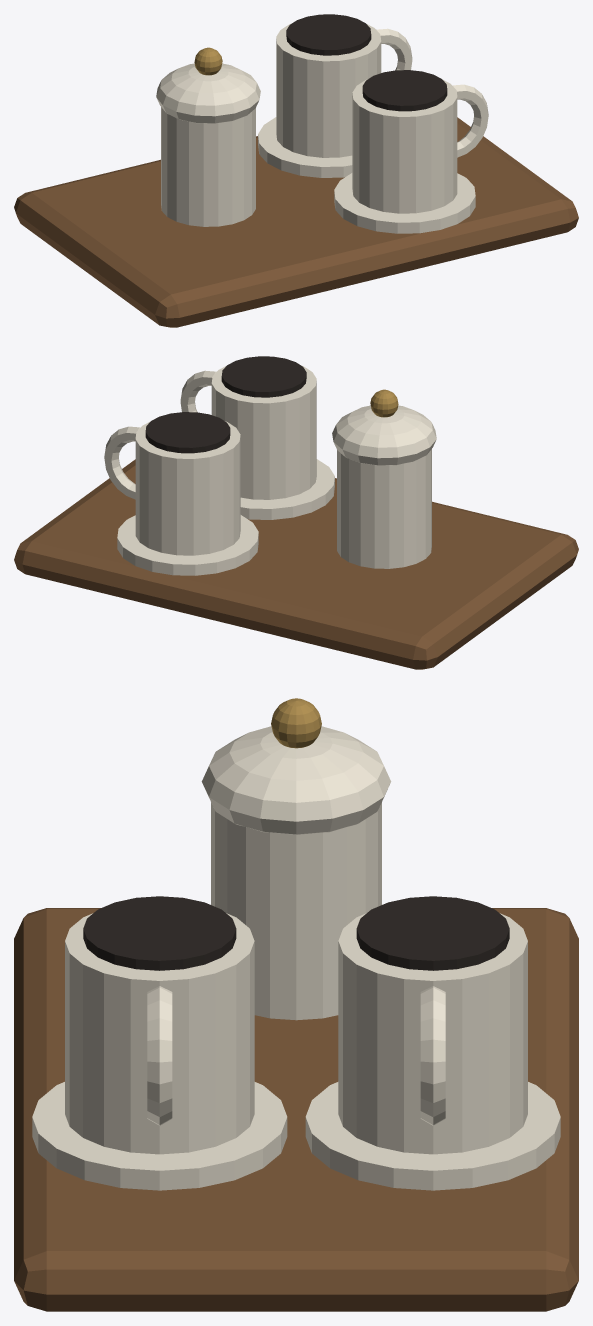
The model's file is coffee_service.glb.
The picture shows the model from 3 angles, top to bottom: view 1: azimuth 30°, elevation 25°; view 2: azimuth 150°, elevation 25°; view 3: azimuth 270°, elevation 25°; orthographic projection. The views are drawn at different scales.
Visible parts, largest first — view 1: ServiceTray, Cup, SugarPot, Cup.001, SugarLid, Saucer, Coffee, Coffee.001, Saucer.001, CupHandle, CupHandle.001, LidKnob; view 2: ServiceTray, Cup.001, SugarPot, Cup, SugarLid, Saucer.001, Coffee, Coffee.001, Saucer, CupHandle.001, CupHandle, LidKnob; view 3: ServiceTray, Cup, Cup.001, SugarPot, SugarLid, Saucer, Saucer.001, Coffee, Coffee.001, CupHandle, CupHandle.001, LidKnob.
Boxes of the visible parts, x1,y1,x2,y2 form: ServiceTray: (14, 117, 578, 327); Cup: (352, 79, 457, 213); SugarPot: (161, 107, 255, 226); Cup.001: (276, 23, 381, 157); SugarLid: (156, 63, 260, 123); Saucer: (334, 173, 475, 233); Coffee: (362, 70, 447, 111); Coffee.001: (286, 14, 371, 55); Saucer.001: (258, 117, 352, 177); CupHandle: (453, 84, 488, 157); CupHandle.001: (376, 28, 412, 70); LidKnob: (194, 47, 222, 75); ServiceTray: (14, 459, 578, 669); Cup.001: (135, 421, 240, 555); SugarPot: (337, 449, 431, 568); Cup: (211, 365, 316, 499); SugarLid: (332, 405, 436, 465); Saucer.001: (117, 515, 258, 575); Coffee: (221, 356, 306, 397); Coffee.001: (145, 412, 230, 453); Saucer: (240, 459, 334, 519); CupHandle.001: (104, 426, 139, 499); CupHandle: (180, 370, 216, 412); LidKnob: (370, 389, 398, 417); ServiceTray: (14, 908, 578, 1311); Cup: (65, 913, 254, 1154); Cup.001: (338, 913, 527, 1154); SugarPot: (211, 802, 381, 1020); SugarLid: (201, 726, 391, 834); Saucer: (32, 1082, 287, 1190); Saucer.001: (305, 1082, 560, 1190); Coffee: (83, 896, 236, 970); Coffee.001: (356, 896, 509, 970); CupHandle: (147, 986, 172, 1125); CupHandle.001: (420, 986, 445, 1125); LidKnob: (271, 698, 321, 748).
Bounding box in the file's own units: 0.48 × 0.219 × 0.31.
